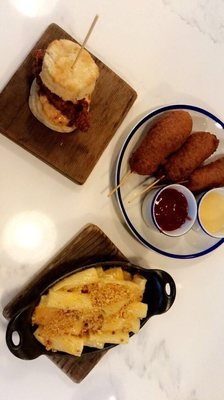pizza: (151, 183, 198, 237)
soup: (27, 38, 100, 134)
sushi: (151, 184, 198, 237)
